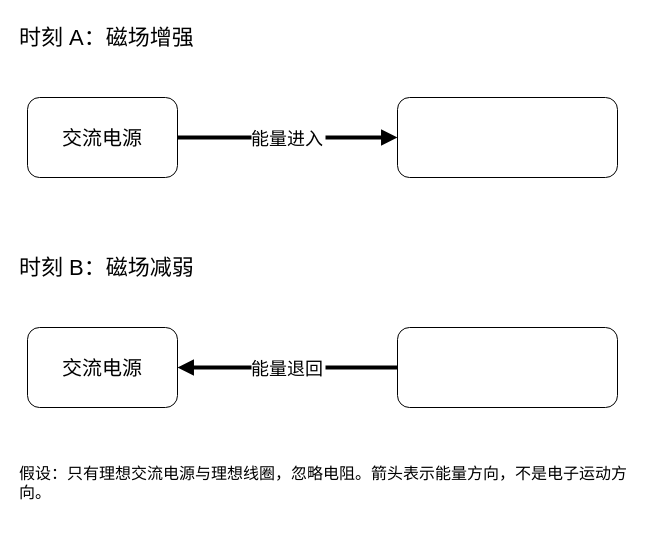
Some shapes in this 654 by 534 pixel diagram are drawn without their labels. The centre of each missing label's shape, as x and y in pixels:
线圈：磁场储能减少: (507,367)
线圈：磁场储能增加: (507,137)
